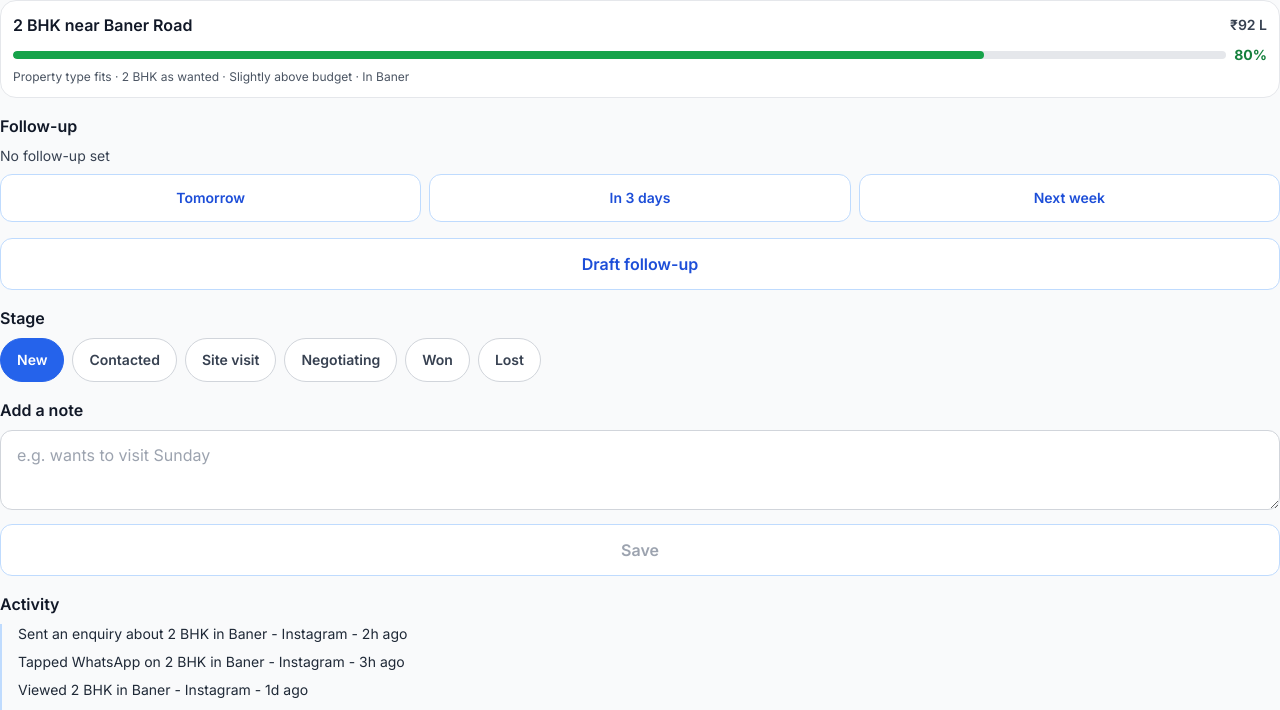
Test case: Deal closed sheet (stage Won) › opens on Won, pre-filled from the enquired listing, both fields editable
(page scrolled)
What coordinates should you click on to do the following:
click the button "Won"
I would click on:
 (438, 360)
Its box is [405,338,470,382].
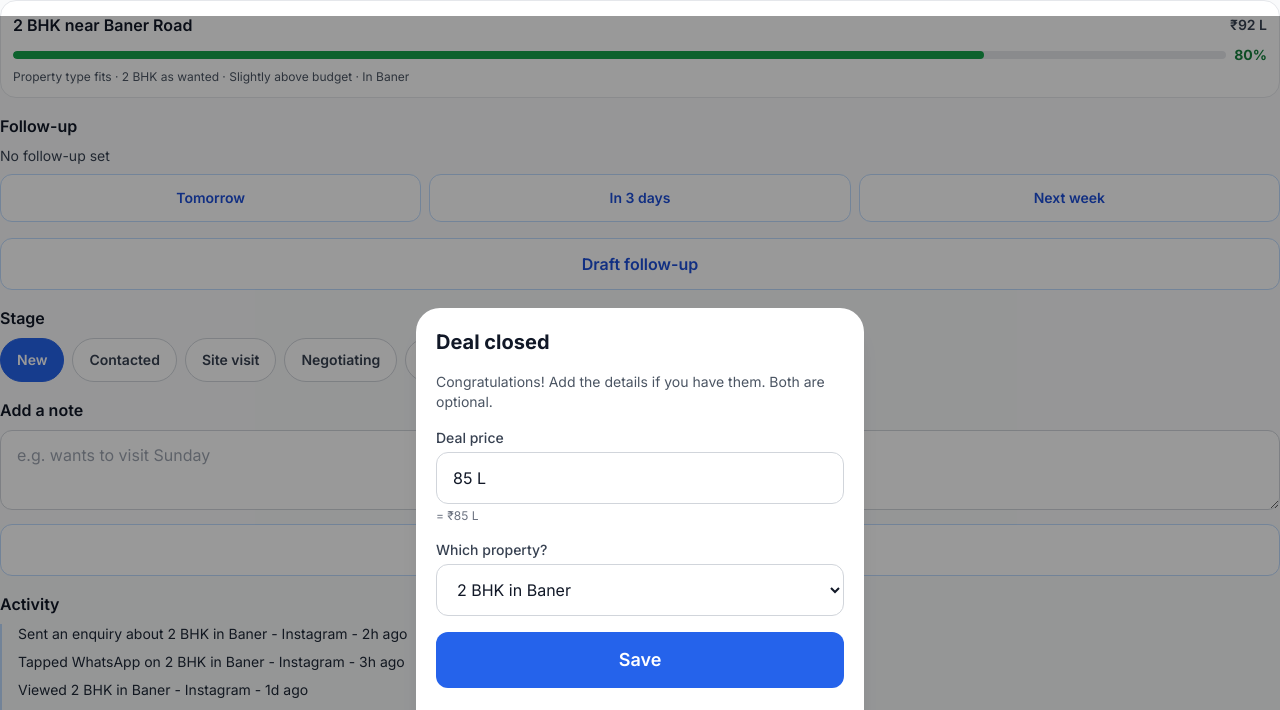
Result: the field labelled "Deal price" holds "85 L" at [436,452,844,504]
Result: the dropdown labelled "Which property?" shows "2 BHK in Baner" at [436,564,844,616]
